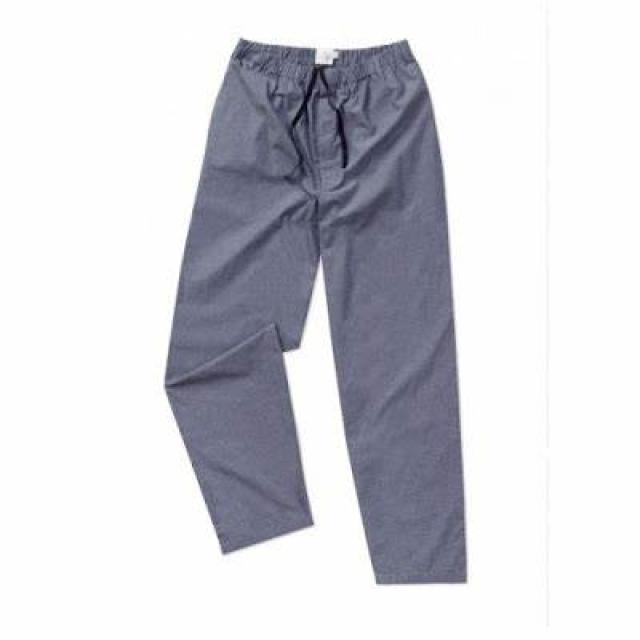long-pants: (165, 33, 467, 586)
